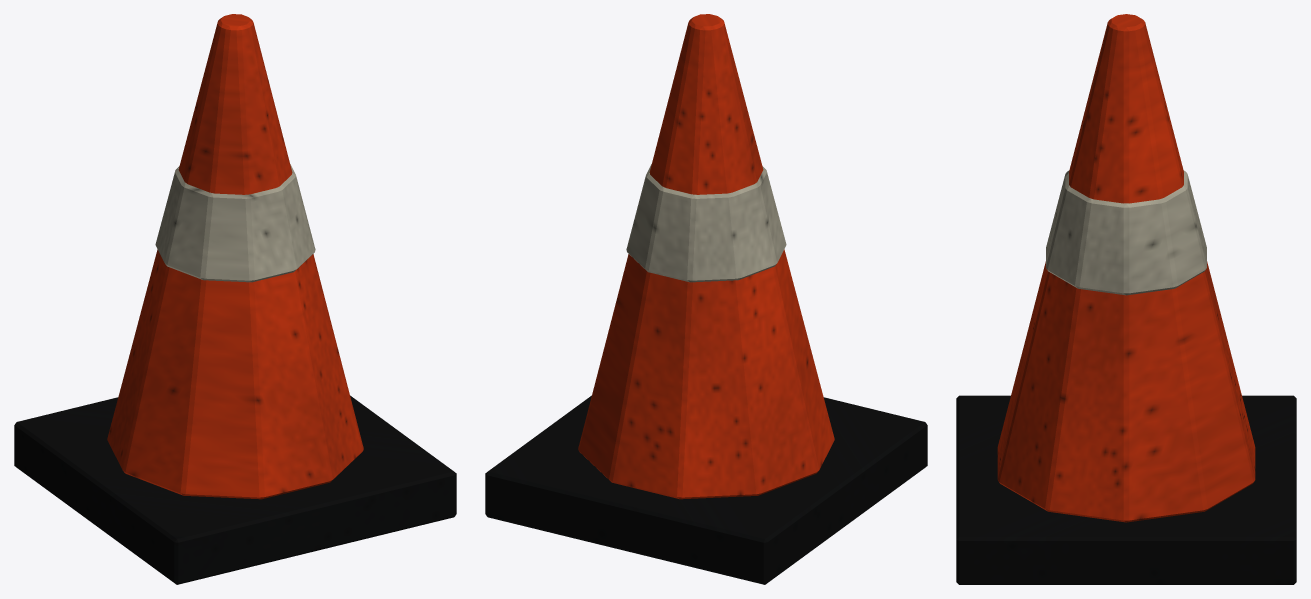
Rendered from PROP-137C8FF83416_lod1.glb.
3 renders of one model, left to right at view 1: azimuth 30°, elevation 25°; view 2: azimuth 150°, elevation 25°; view 3: azimuth 270°, elevation 25°, orthographic. The views are drawn at different scales.
Parts seen in each view (by area): view 1: cone.001, cone_base.001, cone_reflector.001; view 2: cone.001, cone_base.001, cone_reflector.001; view 3: cone.001, cone_base.001, cone_reflector.001.
Part boxes in pixels (<box>): cone.001: <box>107,14,363,499</box>; cone_base.001: <box>14,395,456,584</box>; cone_reflector.001: <box>155,164,315,282</box>; cone.001: <box>578,14,834,499</box>; cone_base.001: <box>485,395,927,584</box>; cone_reflector.001: <box>626,164,786,282</box>; cone.001: <box>997,14,1255,522</box>; cone_base.001: <box>956,395,1296,584</box>; cone_reflector.001: <box>1046,170,1206,295</box>.
Size of the model in its own units: 0.45 by 0.72 by 0.45.
Materials: 3 (3 with a texture image).
